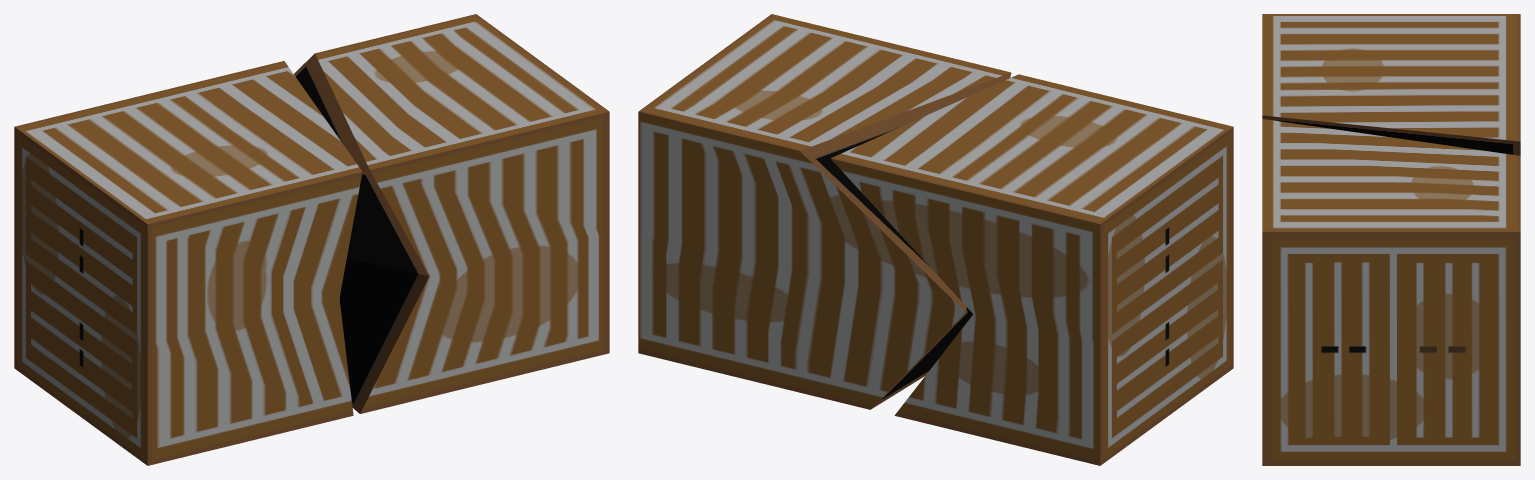
Rendered from container broken 2.fbx.
The picture shows the model from 3 angles, left to right: view 1: azimuth 30°, elevation 25°; view 2: azimuth 150°, elevation 25°; view 3: azimuth 270°, elevation 25°; orthographic projection. The views are drawn at different scales.
Visible parts, largest first — view 1: container broken 2; view 2: container broken 2; view 3: container broken 2.
Boxes of the visible parts, <box> form: container broken 2: <box>14,14,609,465</box>; container broken 2: <box>638,14,1233,465</box>; container broken 2: <box>1262,14,1520,465</box>.
Bounding box in the file's own units: 400 × 200 × 200.
